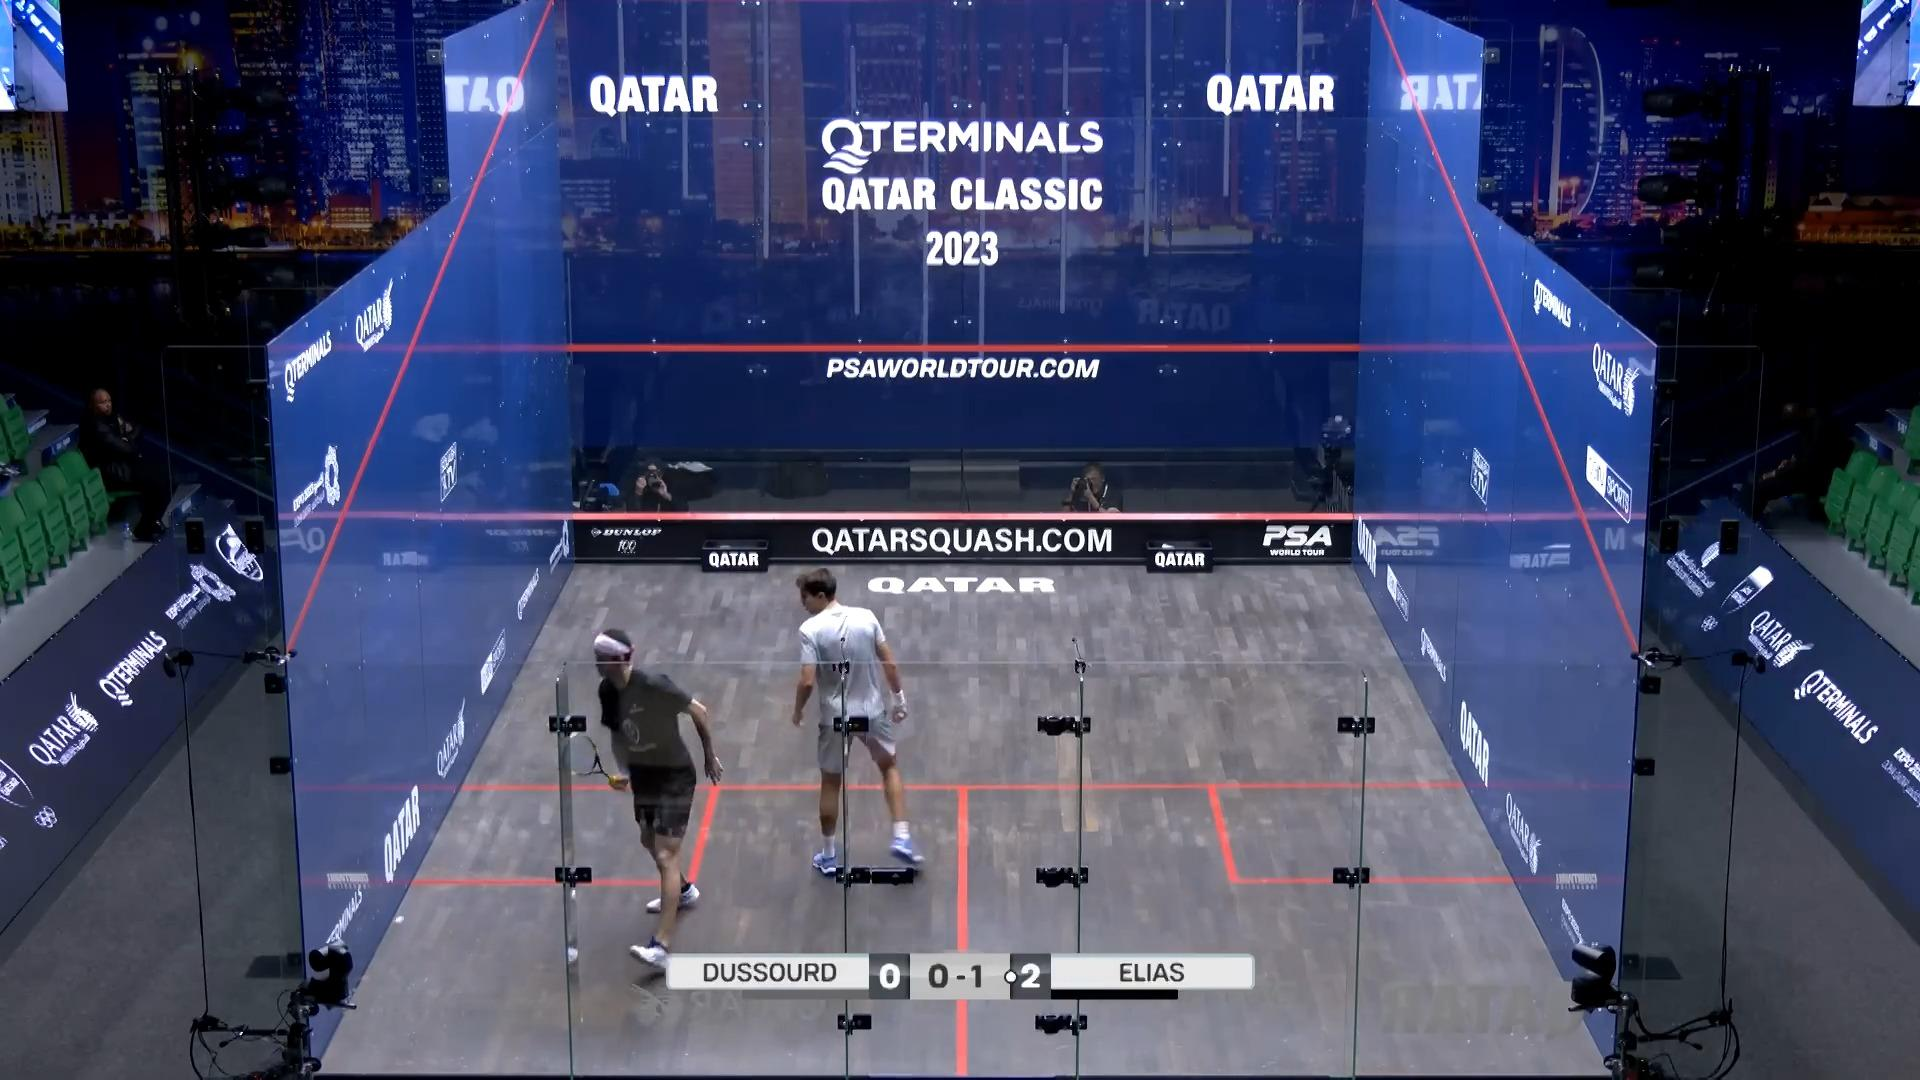Racket: (563, 729, 611, 785)
